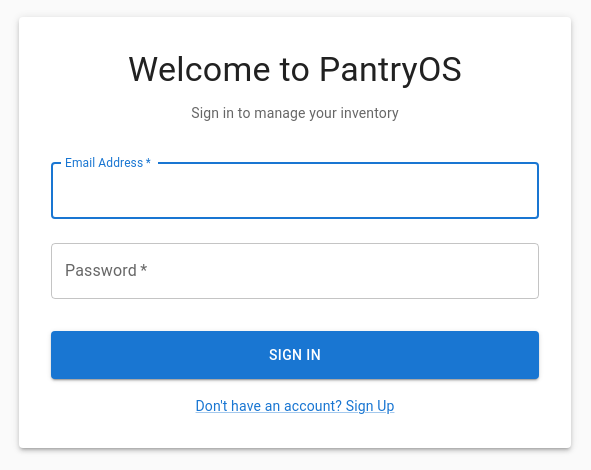
Scenario: Login Component › rendering › should show loading state during form submission
The image size is (591, 470).
Type "test@example.com" into the field labelled "Email Address *" at coordinates (295, 191), box [51, 163, 539, 219]
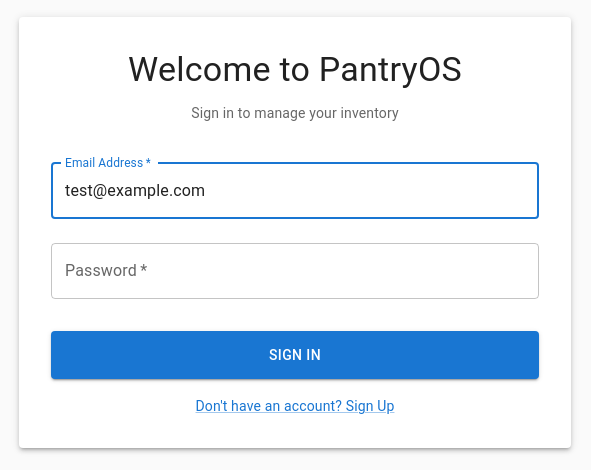
Type "password123" into the password field labelled "Password *" at coordinates (295, 271), box [51, 243, 539, 299]
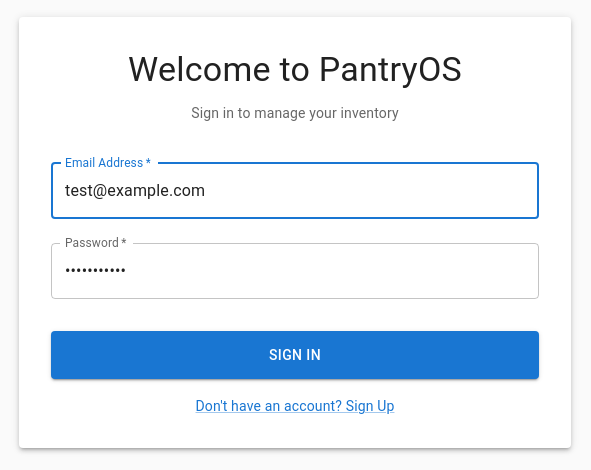
Click the button "Sign In" at coordinates (295, 355), box [51, 331, 539, 379]
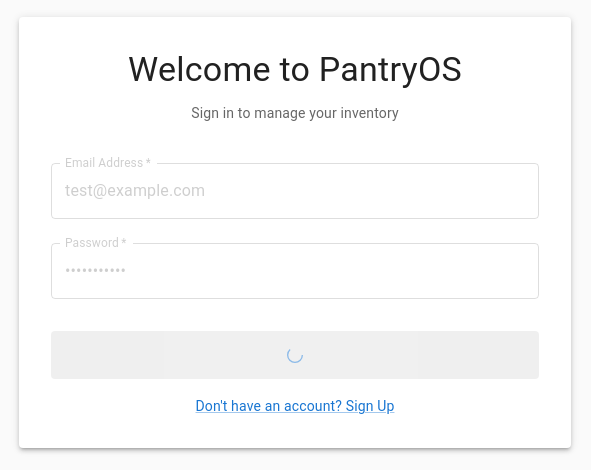
Expected: the button named "sign in" is disabled, [51, 331, 539, 379]
